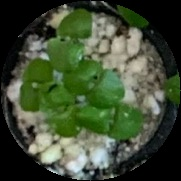Basil: (81, 98, 141, 143), (64, 66, 128, 105), (51, 10, 87, 70), (44, 85, 80, 139), (18, 60, 47, 110)
